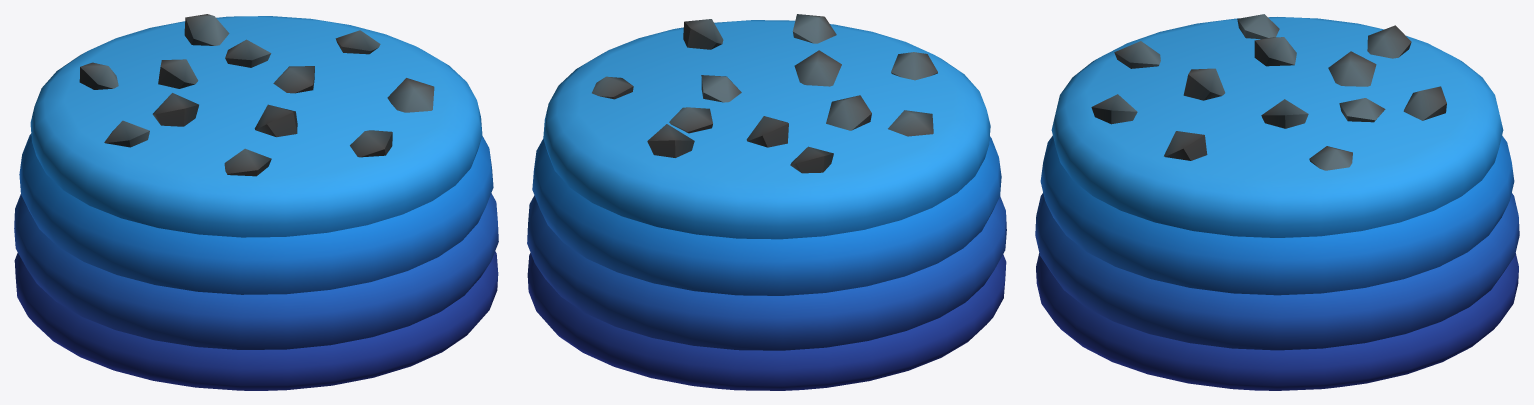
Rendered from cake_003.fbx.
The picture shows the model from 3 angles, left to right: view 1: azimuth 30°, elevation 25°; view 2: azimuth 150°, elevation 25°; view 3: azimuth 270°, elevation 25°; orthographic projection.
Parts seen in each view (by area): view 1: cake_003; view 2: cake_003; view 3: cake_003.
Part boxes in pixels (x1=…): cake_003: x1=14, y1=14, x2=498, y2=390; cake_003: x1=527, y1=14, x2=1006, y2=390; cake_003: x1=1035, y1=14, x2=1519, y2=390.
Size of the model in its own units: 22.25 by 22.25 by 11.27.
